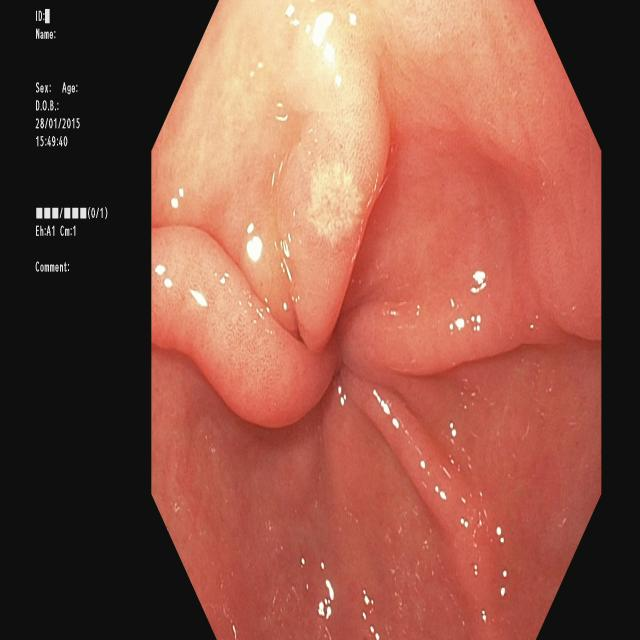normal-pylorus: (151, 0, 610, 632)
